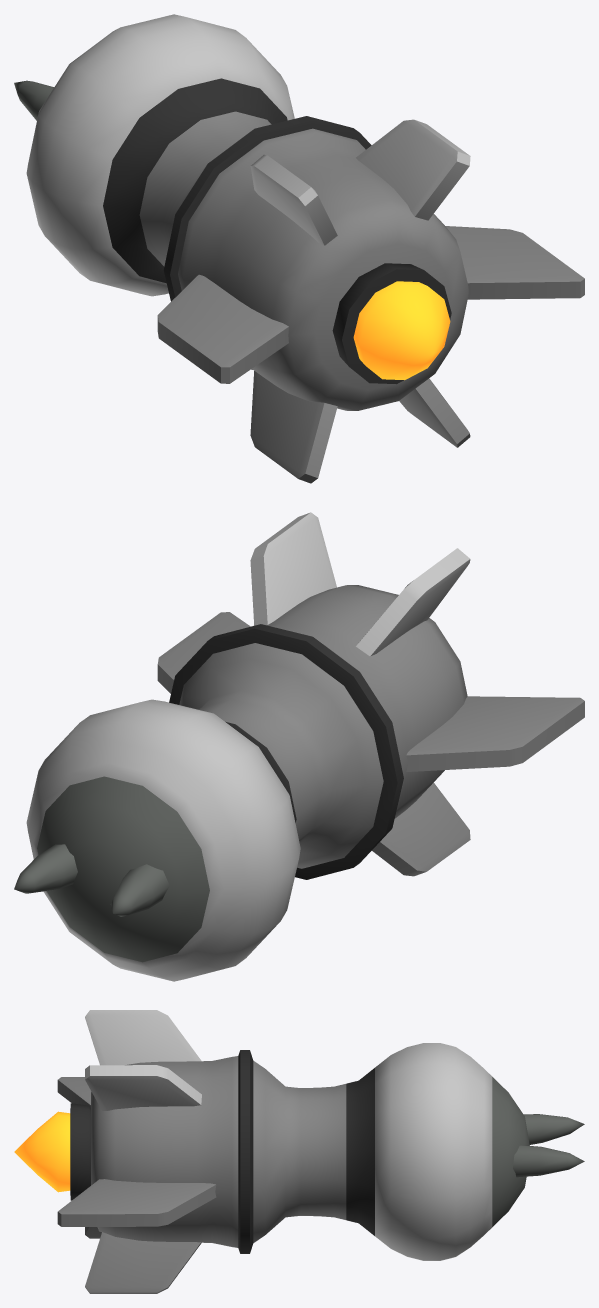
Rendered from shot_missile_big.glb.
3 views of the same model, one above another, from view 1: azimuth 30°, elevation 25°; view 2: azimuth 150°, elevation 25°; view 3: azimuth 270°, elevation 25° (orthographic). The views are drawn at different scales.
Visible parts, largest first — view 1: mb_body0, mb_body2, mb_body1, mb_fin.001, mb_flame, mb_fin, mb_fin.002, mb_fin.004, mb_ring, mb_nozzle, mb_fin.003, mb_fin.005 (+1 smaller); view 2: mb_body0, mb_body2, mb_body3, mb_fin.001, mb_ring, mb_fin.002, mb_fin.004, mb_fin.003, mb_fin, mb_prong.001, mb_prong, mb_body1; view 3: mb_body0, mb_body2, mb_fin, mb_fin.005, mb_fin.003, mb_body1, mb_fin.002, mb_body3, mb_ring, mb_flame, mb_nozzle, mb_prong.001 (+2 smaller).
Boxes of the visible parts, x1=… form: mb_body0: x1=139, y1=111, x2=468, y2=410; mb_body2: x1=26, y1=14, x2=294, y2=296; mb_body1: x1=103, y1=78, x2=287, y2=283; mb_fin.001: x1=157, y1=274, x2=288, y2=383; mb_flame: x1=353, y1=281, x2=450, y2=380; mb_fin: x1=445, y1=226, x2=584, y2=299; mb_fin.002: x1=356, y1=119, x2=470, y2=220; mb_fin.004: x1=250, y1=371, x2=337, y2=483; mb_ring: x1=163, y1=116, x2=371, y2=369; mb_nozzle: x1=332, y1=263, x2=451, y2=384; mb_fin.003: x1=250, y1=154, x2=337, y2=245; mb_fin.005: x1=399, y1=378, x2=470, y2=447; mb_body0: x1=179, y1=585, x2=467, y2=868; mb_body2: x1=26, y1=699, x2=300, y2=981; mb_body3: x1=37, y1=776, x2=209, y2=962; mb_fin.001: x1=406, y1=696, x2=584, y2=771; mb_ring: x1=169, y1=624, x2=403, y2=879; mb_fin.002: x1=250, y1=512, x2=336, y2=625; mb_fin.004: x1=372, y1=782, x2=470, y2=876; mb_fin.003: x1=356, y1=548, x2=470, y2=656; mb_fin: x1=157, y1=612, x2=250, y2=693; mb_prong.001: x1=14, y1=844, x2=77, y2=893; mb_prong: x1=110, y1=864, x2=169, y2=916; mb_body1: x1=225, y1=721, x2=296, y2=822; mb_body0: x1=91, y1=1056, x2=346, y2=1247; mb_body2: x1=375, y1=1043, x2=492, y2=1260; mb_fin: x1=57, y1=1179, x2=216, y2=1226; mb_fin.005: x1=85, y1=1232, x2=201, y2=1293; mb_fin.003: x1=85, y1=1010, x2=201, y2=1065; mb_body1: x1=346, y1=1068, x2=374, y2=1235; mb_fin.002: x1=85, y1=1065, x2=201, y2=1110; mb_body3: x1=492, y1=1077, x2=529, y2=1226; mb_ring: x1=238, y1=1050, x2=253, y2=1253; mb_flame: x1=14, y1=1111, x2=70, y2=1192; mb_nozzle: x1=70, y1=1103, x2=90, y2=1200; mb_prong.001: x1=513, y1=1145, x2=584, y2=1177.
Bounding box in the file's own units: 8 × 6.23 × 14.08.
